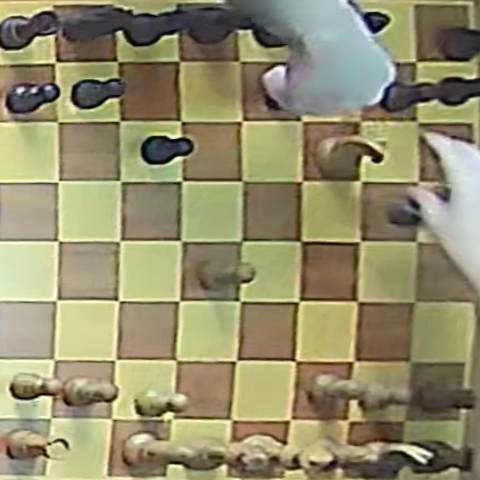black-bishop: (125, 8, 193, 47), (316, 10, 392, 41)
black-knight: (58, 5, 137, 46)
black-pawn: (7, 81, 61, 114), (426, 75, 480, 108), (381, 80, 434, 113), (72, 78, 126, 109), (141, 135, 193, 166)
black-queen: (187, 2, 267, 45)
black-rook: (0, 10, 58, 50), (438, 26, 480, 60)
white-bishop: (307, 434, 383, 474), (123, 431, 197, 467)
white-king: (239, 432, 335, 476)
white-knight: (364, 433, 437, 476), (316, 136, 385, 178)
white-pawn: (415, 380, 476, 413), (308, 373, 367, 404), (198, 260, 256, 290), (63, 376, 119, 407), (134, 387, 190, 417), (11, 373, 62, 401), (361, 383, 413, 410)
white-queen: (179, 439, 269, 472), (420, 124, 475, 175)
white-rook: (404, 439, 478, 475), (2, 429, 70, 461)
